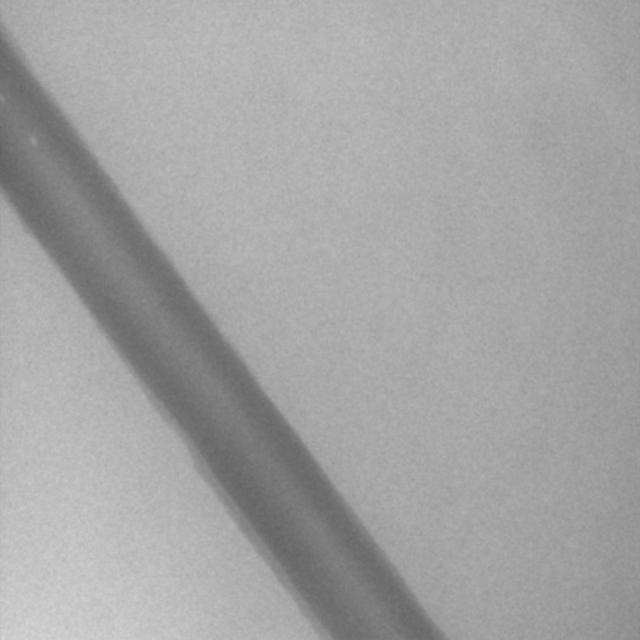air hole: (28, 133, 40, 149)
